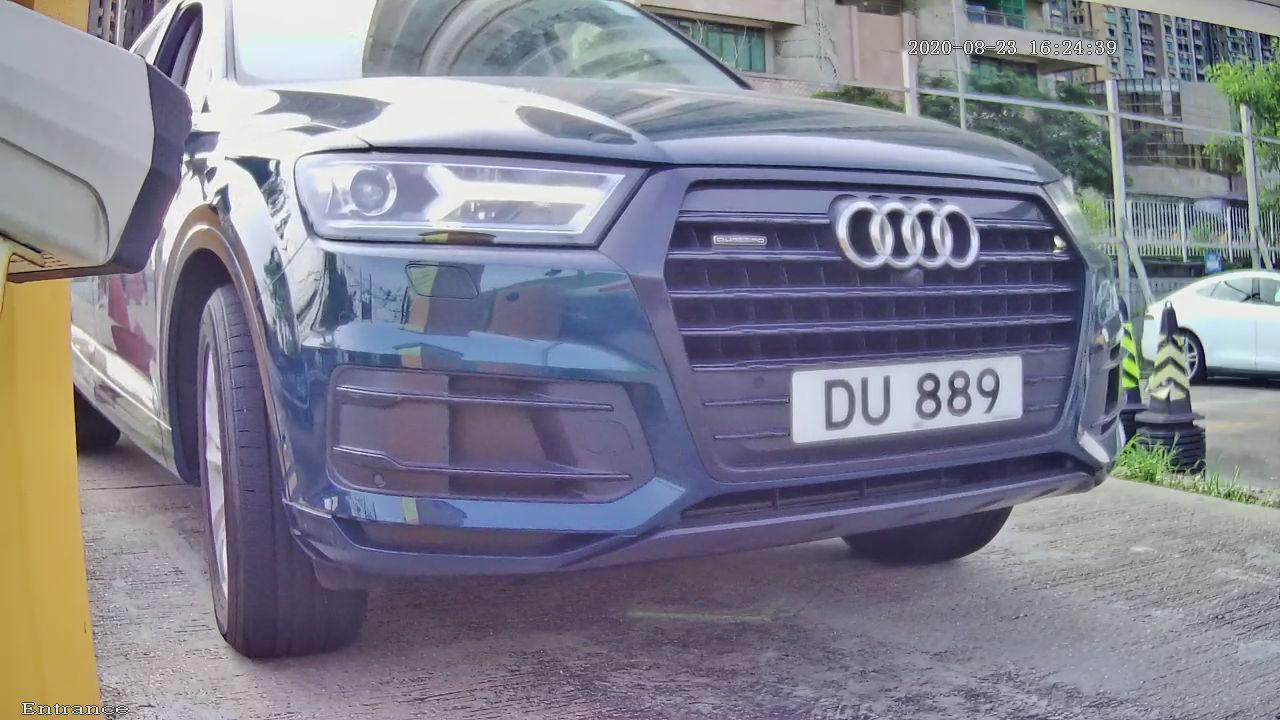Car: (41, 1, 1189, 650)
License Plate: (772, 341, 1035, 457)
